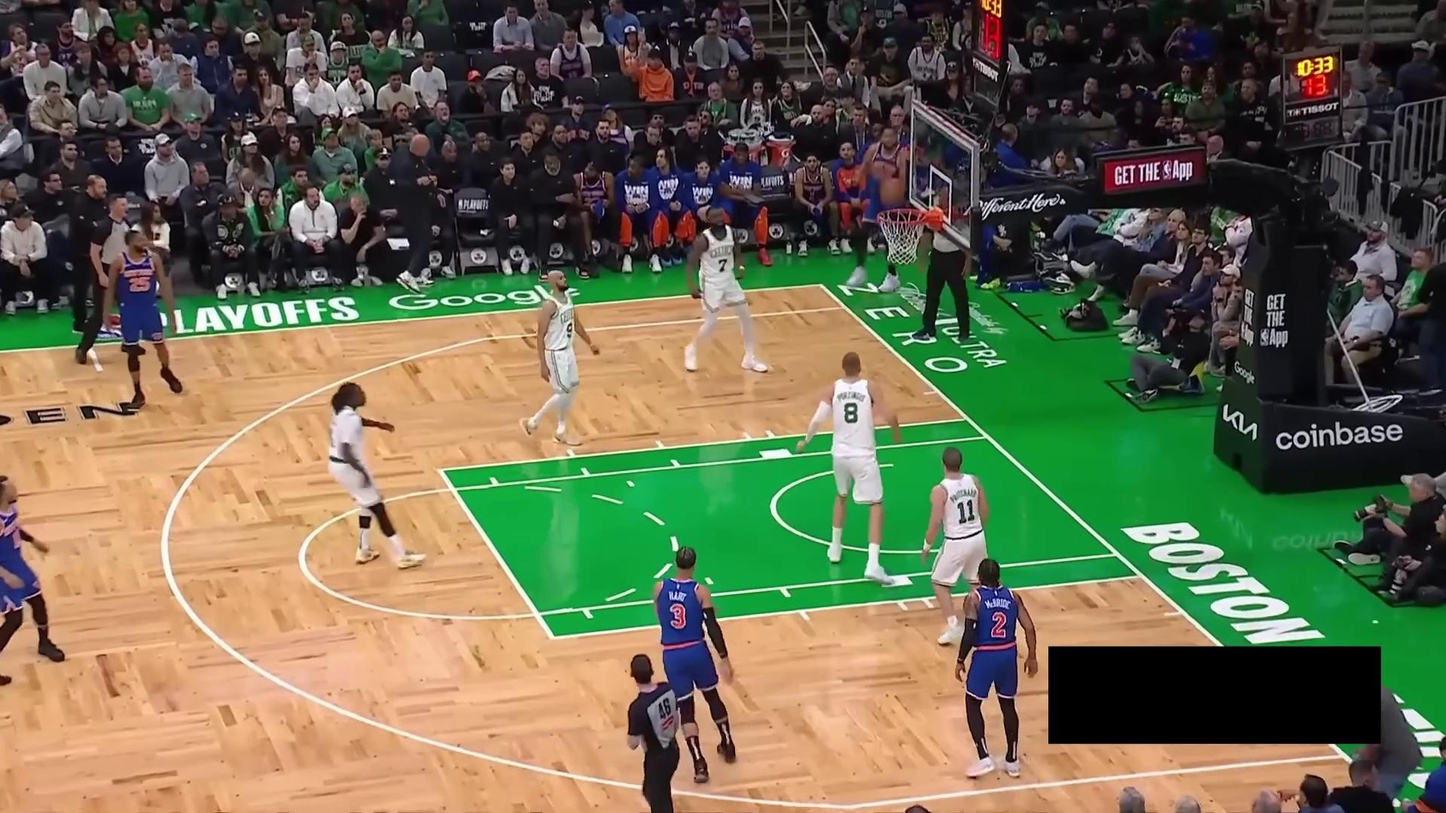ball: (880, 177, 906, 203)
number: (955, 499, 975, 526), (843, 401, 860, 425), (670, 603, 686, 628), (992, 609, 1008, 633), (130, 275, 150, 291), (717, 255, 728, 272), (566, 322, 573, 338)
player: (794, 350, 907, 586), (652, 544, 740, 784), (325, 382, 428, 571), (953, 556, 1039, 780), (102, 228, 189, 414), (684, 205, 770, 374), (0, 474, 68, 687), (923, 447, 992, 647), (522, 271, 600, 447), (845, 124, 910, 293)
referee: (73, 192, 150, 366), (623, 651, 685, 813), (913, 216, 976, 342)
rim: (875, 207, 927, 225)
